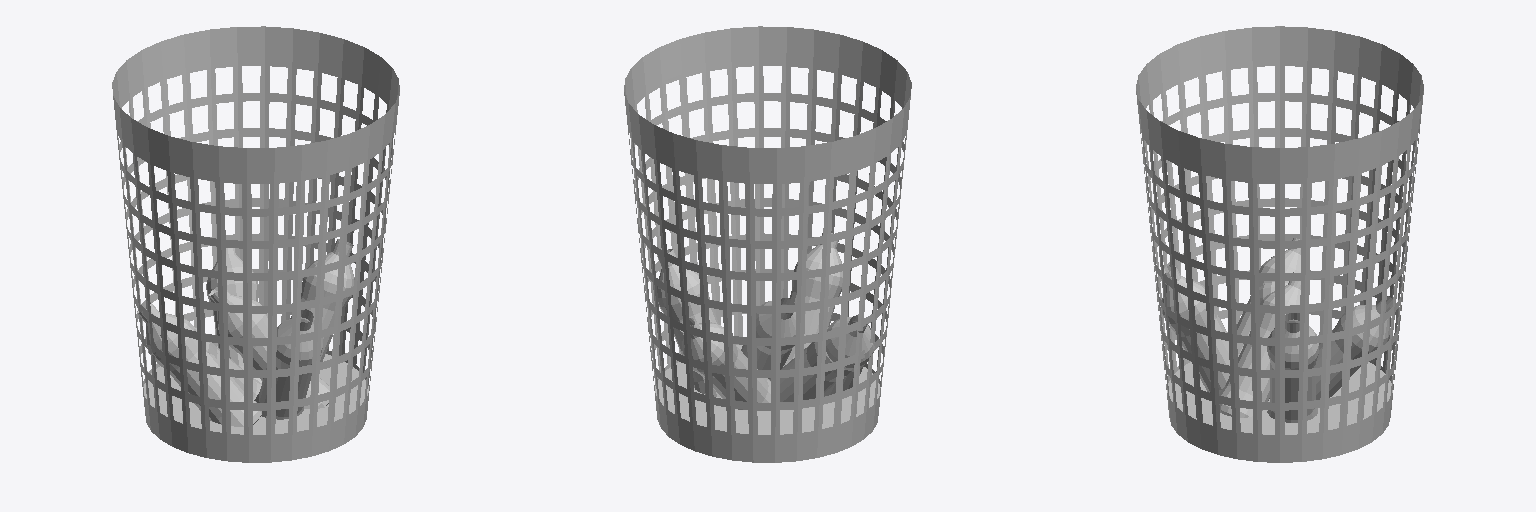
The model's file is DustbinWithCan_000044.obj.
The picture shows the model from 3 angles: view 1: azimuth 30°, elevation 25°; view 2: azimuth 150°, elevation 25°; view 3: azimuth 270°, elevation 25°; orthographic projection.
Parts seen in each view (by area): view 1: Cylinder, Plane.005, Plane.001, Plane.004, Plane.003, Plane.002; view 2: Cylinder, Plane.002, Plane.001, Plane.003, Plane.004, Plane.006, Plane.005; view 3: Cylinder, Plane.001, Plane.004, Plane.003, Plane.002, Plane.005.
Part boxes in pixels (x1,y1,x2,y2): Cylinder: (112,26,399,462); Plane.005: (137,302,261,426); Plane.001: (254,309,322,419); Plane.004: (209,286,329,408); Plane.003: (290,239,354,361); Plane.002: (206,248,261,382); Cylinder: (624,26,911,462); Plane.002: (680,318,770,409); Plane.001: (783,233,842,366); Plane.003: (657,249,720,396); Plane.004: (741,298,795,378); Plane.006: (769,324,870,401); Plane.005: (824,315,874,396); Cylinder: (1136,26,1423,462); Plane.001: (1162,265,1238,393); Plane.004: (1219,272,1300,417); Plane.003: (1267,313,1318,422); Plane.002: (1316,296,1392,399); Plane.005: (1237,238,1300,354).
Bounding box in the file's own units: 2.6 × 3.36 × 2.6.